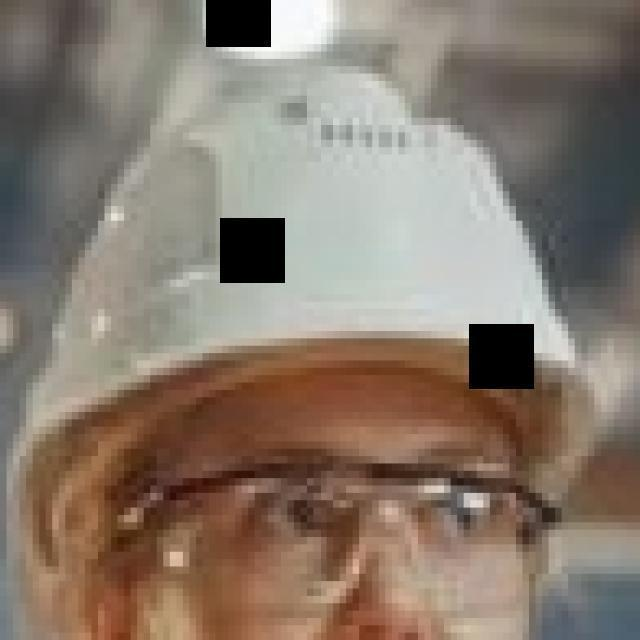white helmet: (31, 63, 608, 473)
